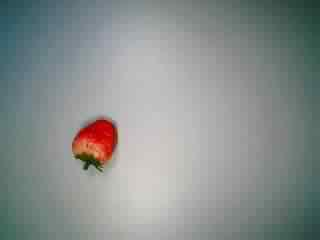strawberry: (62, 115, 124, 179)
